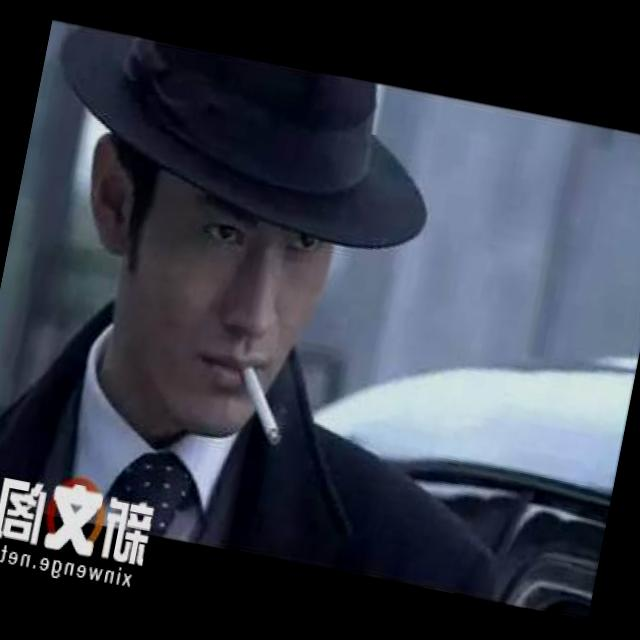smoke: (228, 364, 294, 448)
